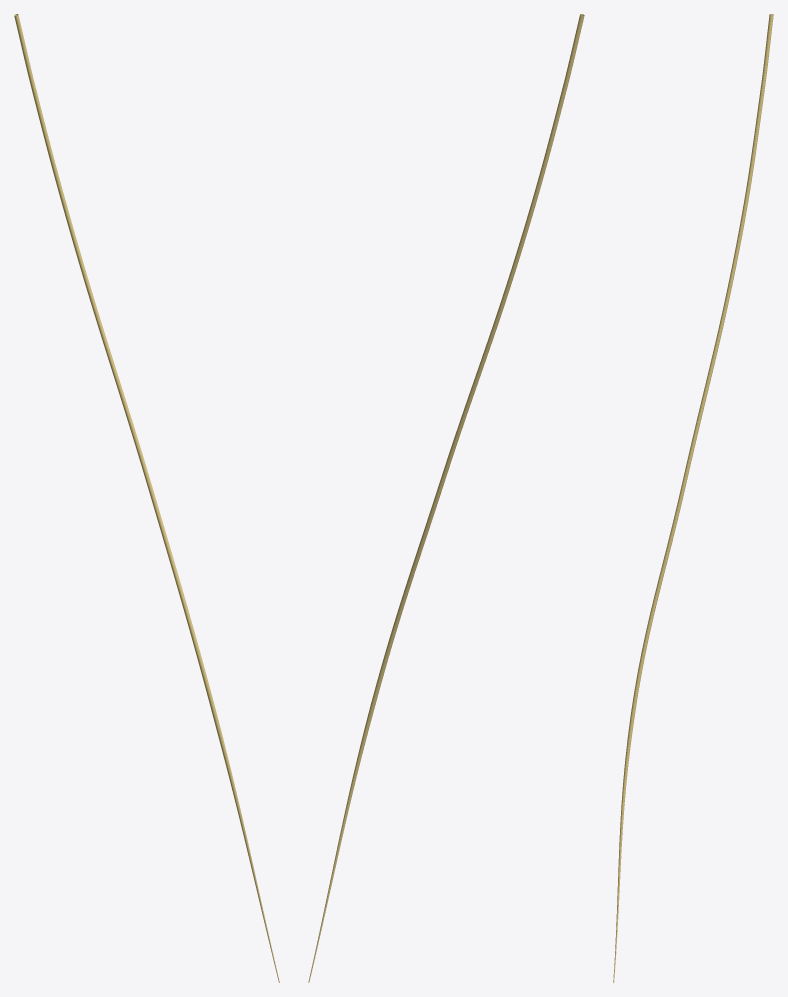
The picture shows the model from 3 angles, left to right: view 1: azimuth 30°, elevation 25°; view 2: azimuth 210°, elevation 25°; view 3: azimuth 270°, elevation 25°; orthographic projection. The views are drawn at different scales.
Visible parts, largest first — view 1: ZA_cc3dd345fc79c6b1; view 2: ZA_cc3dd345fc79c6b1; view 3: ZA_cc3dd345fc79c6b1.
Boxes of the visible parts, bbox=[...] form: ZA_cc3dd345fc79c6b1: bbox=[14, 14, 279, 982]; ZA_cc3dd345fc79c6b1: bbox=[308, 14, 584, 982]; ZA_cc3dd345fc79c6b1: bbox=[613, 14, 773, 982].
Size of the model in its own units: 0.0468 by 0.2348 by 0.0385.
